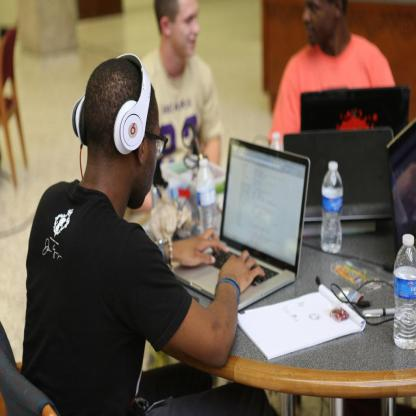board: (172, 136, 311, 312), (283, 131, 395, 223), (300, 88, 408, 136), (386, 121, 416, 252), (392, 235, 416, 350), (321, 160, 344, 252), (197, 156, 219, 241)
